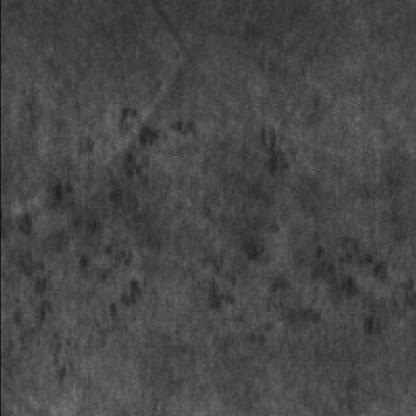rolled-in_scale: (10, 108, 202, 320), (210, 127, 412, 322)
